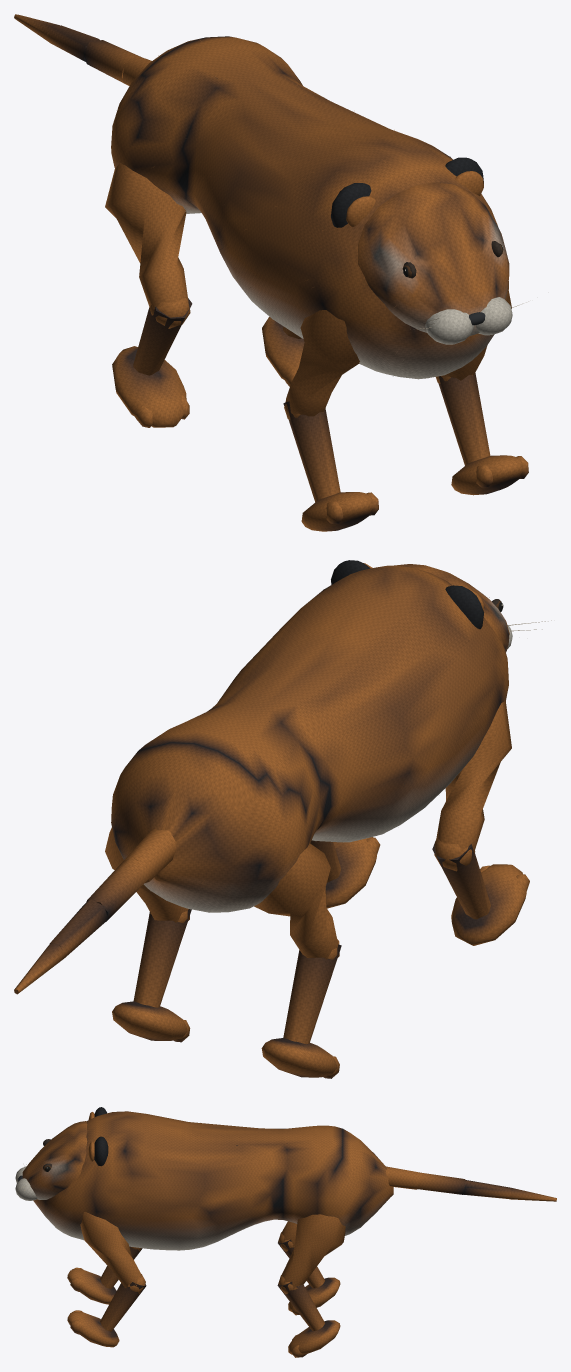
Rendered from bengal-tiger.glb.
3 renders of one model, top to bottom at view 1: azimuth 30°, elevation 25°; view 2: azimuth 150°, elevation 25°; view 3: azimuth 270°, elevation 25°, orthographic. The views are drawn at different scales.
Visible parts, largest first — view 1: bengal-tiger__torso.002, bengal-tiger__head_and_neck.002, bengal-tiger__upper_BL.002, bengal-tiger__lower_BL.002, bengal-tiger__lower_FL.002, bengal-tiger__lower_FR.002, bengal-tiger__upper_FL.002, bengal-tiger__lower_BR.002, bengal-tiger__tail_surface_1.002, bengal-tiger__tail_surface_2.002; view 2: bengal-tiger__torso.002, bengal-tiger__upper_FL.002, bengal-tiger__lower_FL.002, bengal-tiger__lower_BR.002, bengal-tiger__lower_BL.002, bengal-tiger__upper_BL.002, bengal-tiger__head_and_neck.002, bengal-tiger__lower_FR.002, bengal-tiger__tail_surface_1.002, bengal-tiger__tail_surface_2.002, bengal-tiger__tail_surface_0.002, bengal-tiger__upper_BR.002 (+1 smaller); view 3: bengal-tiger__torso.002, bengal-tiger__head_and_neck.002, bengal-tiger__upper_BR.002, bengal-tiger__upper_FR.002, bengal-tiger__lower_FR.002, bengal-tiger__lower_BR.002, bengal-tiger__lower_FL.002, bengal-tiger__lower_BL.002, bengal-tiger__tail_surface_1.002, bengal-tiger__tail_surface_2.002, bengal-tiger__tail_surface_0.002, bengal-tiger__tail_surface_3.002 (+1 smaller).
Part boxes in pixels (x1,y1,x2,y2): bengal-tiger__torso.002: (111,36,508,379); bengal-tiger__head_and_neck.002: (331,157,528,344); bengal-tiger__upper_BL.002: (105,163,190,328); bengal-tiger__lower_BL.002: (112,298,192,427); bengal-tiger__lower_FL.002: (283,401,378,531); bengal-tiger__lower_FR.002: (438,373,528,495); bengal-tiger__upper_FL.002: (284,310,359,419); bengal-tiger__lower_BR.002: (262,317,304,386); bengal-tiger__tail_surface_1.002: (83,40,142,85); bengal-tiger__tail_surface_2.002: (47,25,99,61); bengal-tiger__torso.002: (111,565,508,912); bengal-tiger__upper_FL.002: (434,699,511,871); bengal-tiger__lower_FL.002: (432,840,529,945); bengal-tiger__lower_BR.002: (112,909,191,1042); bengal-tiger__lower_BL.002: (261,944,341,1078); bengal-tiger__upper_BL.002: (254,843,339,959); bengal-tiger__head_and_neck.002: (331,560,551,652); bengal-tiger__lower_FR.002: (310,837,380,908); bengal-tiger__tail_surface_1.002: (86,858,149,921); bengal-tiger__tail_surface_2.002: (49,899,107,958); bengal-tiger__tail_surface_0.002: (123,829,176,882); bengal-tiger__upper_BR.002: (105,827,189,922); bengal-tiger__torso.002: (33,1111,393,1250); bengal-tiger__head_and_neck.002: (15,1107,108,1200); bengal-tiger__upper_BR.002: (278,1214,345,1294); bengal-tiger__upper_FR.002: (80,1212,145,1293); bengal-tiger__lower_FR.002: (67,1282,146,1347); bengal-tiger__lower_BR.002: (277,1281,340,1357); bengal-tiger__lower_FL.002: (67,1246,142,1304); bengal-tiger__lower_BL.002: (278,1239,340,1315); bengal-tiger__tail_surface_1.002: (417,1172,465,1194); bengal-tiger__tail_surface_2.002: (463,1180,511,1199); bengal-tiger__tail_surface_0.002: (385,1166,419,1189); bengal-tiger__tail_surface_3.002: (510,1188,556,1201).
Bounding box in the file's own units: 0.8353 × 1.37 × 3.11.
2 materials, 1 textured.
